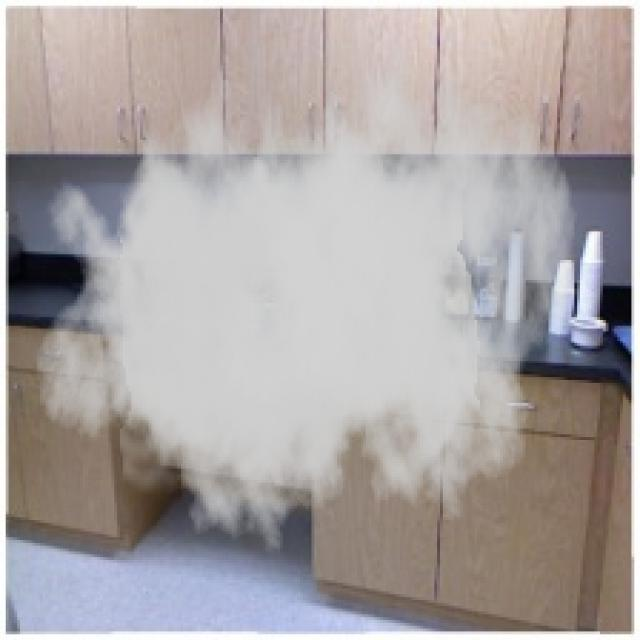smoke: (34, 11, 577, 563)
